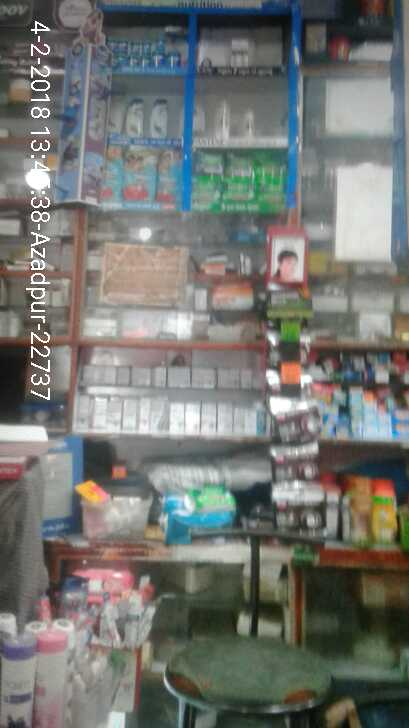vicks: (110, 36, 182, 63)
